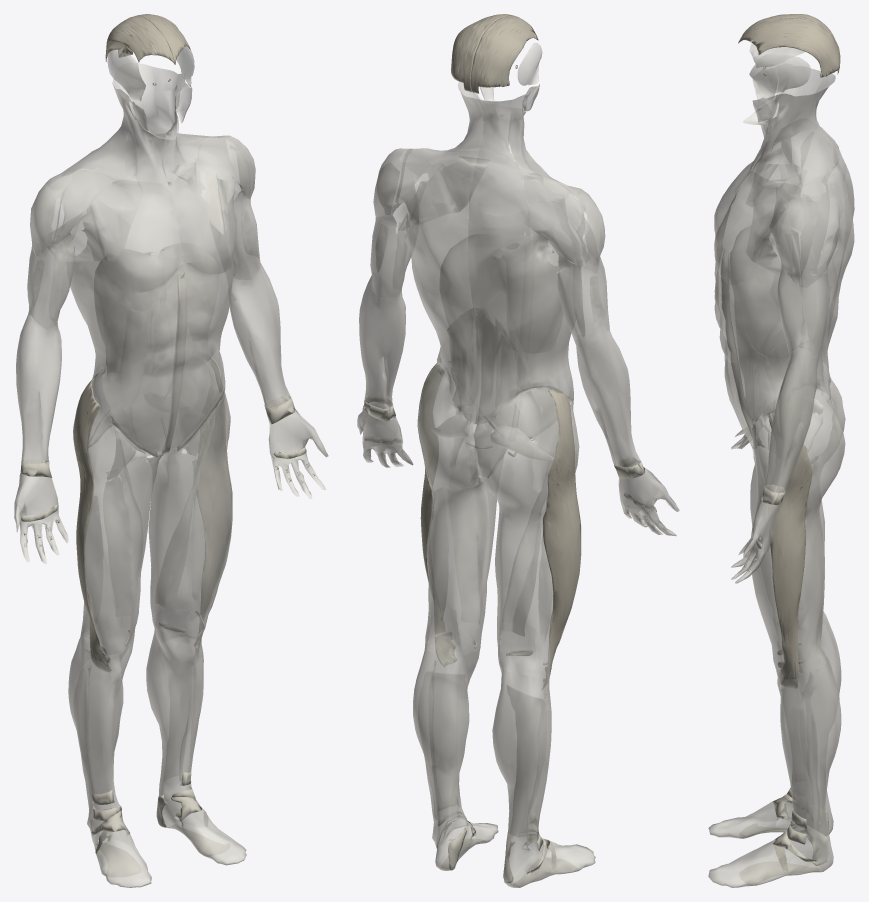
Rendered from adult_male.fascia.LOD2.glb.
The picture shows the model from 3 angles, left to right: view 1: azimuth 30°, elevation 25°; view 2: azimuth 150°, elevation 25°; view 3: azimuth 270°, elevation 25°; orthographic projection. The views are drawn at different scales.
Parts seen in each view (by area): view 1: ADULT.MALE.FASCIA.INVESTING_ABDOMINAL_FASCIA.R, ADULT.MALE.FASCIA.FASCIA_LATA.L, ADULT.MALE.FASCIA.INVESTING_ABDOMINAL_FASCIA.L, ADULT.MALE.FASCIA.FASCIA_LATA.R, ADULT.MALE.FASCIA.TRANSVERSALIS_FASCIA, ADULT.MALE.FASCIA.CRURAL_FASCIA.L, ADULT.MALE.FASCIA.CRURAL_FASCIA.R, ADULT.MALE.FASCIA.PECTORAL_FASCIA.R, ADULT.MALE.FASCIA.DIAPHRAGMATIC_FASCIA, ADULT.MALE.FASCIA.PECTORAL_FASCIA.L, ADULT.MALE.FASCIA.ILIOTIBIAL_TRACT.L, ADULT.MALE.FASCIA.ANTEBRACHIAL_FASCIA.R (+29 smaller); view 2: ADULT.MALE.FASCIA.INVESTING_ABDOMINAL_FASCIA.R, ADULT.MALE.FASCIA.FASCIA_LATA.R, ADULT.MALE.FASCIA.FASCIA_LATA.L, ADULT.MALE.FASCIA.CRURAL_FASCIA.R, ADULT.MALE.FASCIA.INVESTING_ABDOMINAL_FASCIA.L, ADULT.MALE.FASCIA.DIAPHRAGMATIC_FASCIA, ADULT.MALE.FASCIA.CRURAL_FASCIA.L, ADULT.MALE.FASCIA.SUPERFICIAL_INVESTING_CERVICAL_FASCIA.R, ADULT.MALE.FASCIA.ILIOTIBIAL_TRACT.R, ADULT.MALE.FASCIA.SUPERFICIAL_INVESTING_CERVICAL_FASCIA.L, ADULT.MALE.FASCIA.MEDIAL_FEMORAL_INTERMUSCULAR_SEPTUM.L, ADULT.MALE.FASCIA.ANTEBRACHIAL_FASCIA.R (+32 smaller); view 3: ADULT.MALE.FASCIA.CRURAL_FASCIA.L, ADULT.MALE.FASCIA.INVESTING_ABDOMINAL_FASCIA.L, ADULT.MALE.FASCIA.FASCIA_LATA.L, ADULT.MALE.FASCIA.ILIOTIBIAL_TRACT.L, ADULT.MALE.FASCIA.SUPERFICIAL_INVESTING_CERVICAL_FASCIA.L, ADULT.MALE.FASCIA.INVESTING_ABDOMINAL_FASCIA.R, ADULT.MALE.FASCIA.DELTOID_FASCIA.L, ADULT.MALE.FASCIA.PECTORAL_FASCIA.L, ADULT.MALE.FASCIA.ANTEBRACHIAL_FASCIA.L, ADULT.MALE.FASCIA.DIAPHRAGMATIC_FASCIA, ADULT.MALE.FASCIA.SUPERFICIAL_INVESTING_CERVICAL_FASCIA.R, ADULT.MALE.FASCIA.BRACHIAL_FASCIA.L (+25 smaller).
Boxes of the visible parts, x1,y1,x2,y2 form: ADULT.MALE.FASCIA.INVESTING_ABDOMINAL_FASCIA.R: (57,165,184,456); ADULT.MALE.FASCIA.FASCIA_LATA.L: (140,377,232,637); ADULT.MALE.FASCIA.INVESTING_ABDOMINAL_FASCIA.L: (123,144,232,451); ADULT.MALE.FASCIA.FASCIA_LATA.R: (73,369,165,657); ADULT.MALE.FASCIA.TRANSVERSALIS_FASCIA: (102,275,218,451); ADULT.MALE.FASCIA.CRURAL_FASCIA.L: (146,609,246,865); ADULT.MALE.FASCIA.CRURAL_FASCIA.R: (68,628,151,887); ADULT.MALE.FASCIA.PECTORAL_FASCIA.R: (78,178,182,293); ADULT.MALE.FASCIA.DIAPHRAGMATIC_FASCIA: (94,243,218,352); ADULT.MALE.FASCIA.PECTORAL_FASCIA.L: (168,158,237,274); ADULT.MALE.FASCIA.ILIOTIBIAL_TRACT.L: (193,357,231,650); ADULT.MALE.FASCIA.ANTEBRACHIAL_FASCIA.R: (16,315,61,463); ADULT.MALE.FASCIA.INVESTING_ABDOMINAL_FASCIA.R: (467,206,574,425); ADULT.MALE.FASCIA.FASCIA_LATA.R: (474,388,581,676); ADULT.MALE.FASCIA.FASCIA_LATA.L: (417,363,506,655); ADULT.MALE.FASCIA.CRURAL_FASCIA.R: (492,656,595,887); ADULT.MALE.FASCIA.INVESTING_ABDOMINAL_FASCIA.L: (402,177,530,424); ADULT.MALE.FASCIA.DIAPHRAGMATIC_FASCIA: (440,234,564,353); ADULT.MALE.FASCIA.CRURAL_FASCIA.L: (413,640,498,870); ADULT.MALE.FASCIA.SUPERFICIAL_INVESTING_CERVICAL_FASCIA.R: (469,86,570,216); ADULT.MALE.FASCIA.ILIOTIBIAL_TRACT.R: (541,389,580,690); ADULT.MALE.FASCIA.SUPERFICIAL_INVESTING_CERVICAL_FASCIA.L: (399,81,518,207); ADULT.MALE.FASCIA.MEDIAL_FEMORAL_INTERMUSCULAR_SEPTUM.L: (448,423,489,624); ADULT.MALE.FASCIA.ANTEBRACHIAL_FASCIA.R: (575,329,641,467); ADULT.MALE.FASCIA.CRURAL_FASCIA.L: (708,644,841,887); ADULT.MALE.FASCIA.INVESTING_ABDOMINAL_FASCIA.L: (714,187,854,447); ADULT.MALE.FASCIA.FASCIA_LATA.L: (751,388,845,672); ADULT.MALE.FASCIA.ILIOTIBIAL_TRACT.L: (768,395,812,688); ADULT.MALE.FASCIA.SUPERFICIAL_INVESTING_CERVICAL_FASCIA.L: (743,78,847,204); ADULT.MALE.FASCIA.INVESTING_ABDOMINAL_FASCIA.R: (714,160,854,438); ADULT.MALE.FASCIA.DELTOID_FASCIA.L: (770,182,842,287); ADULT.MALE.FASCIA.PECTORAL_FASCIA.L: (714,169,776,284); ADULT.MALE.FASCIA.ANTEBRACHIAL_FASCIA.L: (764,347,819,492); ADULT.MALE.FASCIA.DIAPHRAGMATIC_FASCIA: (731,225,815,358); ADULT.MALE.FASCIA.SUPERFICIAL_INVESTING_CERVICAL_FASCIA.R: (743,63,847,179); ADULT.MALE.FASCIA.BRACHIAL_FASCIA.L: (777,248,832,356).
Bounding box in the file's own units: 0.6716 × 1.7 × 0.2689.
